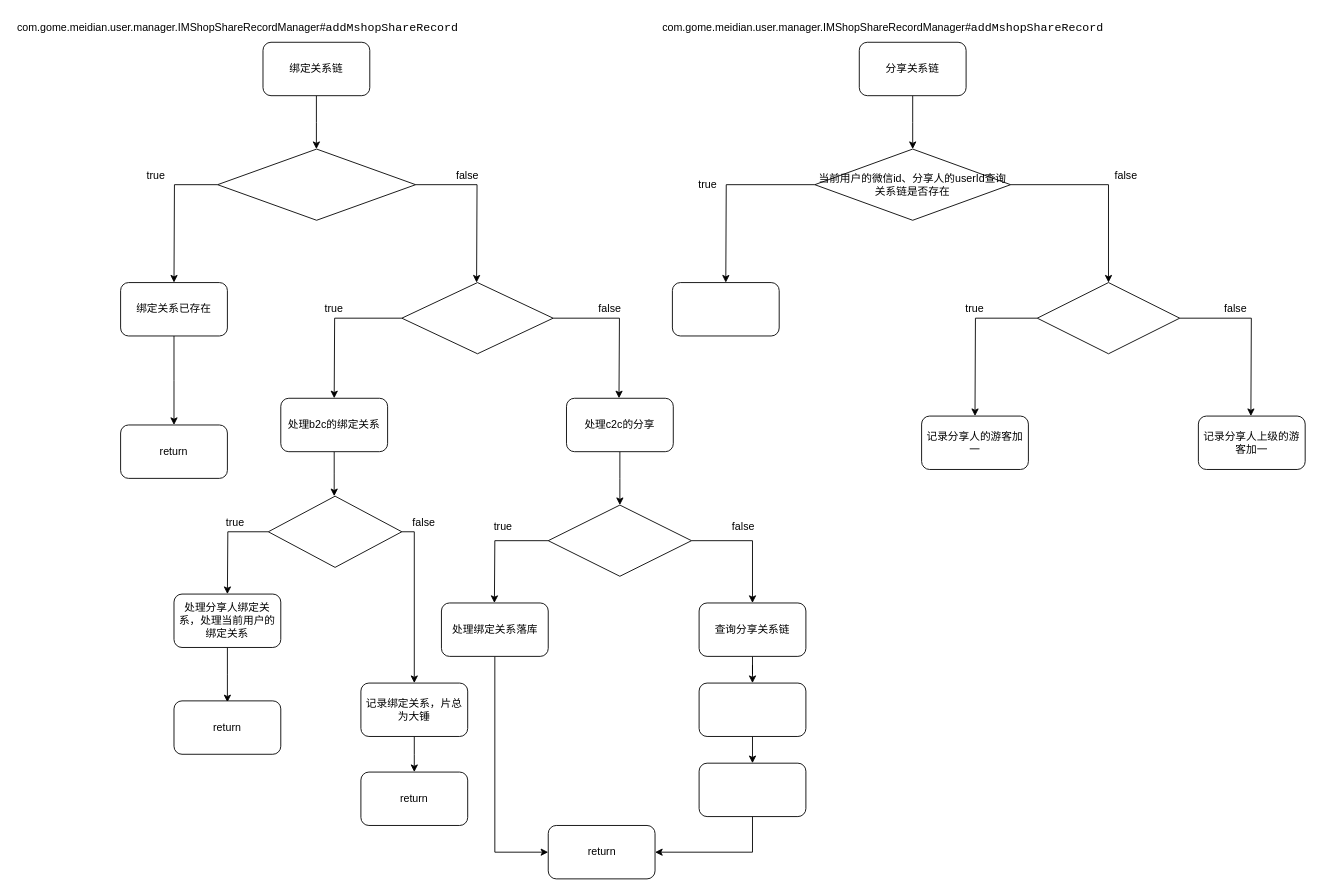
Some shapes in this 1321 by 894 pixel diagram are drawn without their labels. The centre of each missing label's shape, as x and y in pixels:
"判断分享人是否为美店主" goes at (1108,318).
"处理绑定关系链条" goes at (752,789).
"当前用户、分享人的userId查询是否已经存在绑定关系" goes at (316,184).
"更新为会员游客" goes at (725,309).
"查出分享逻辑上级" goes at (752,709).
"查询分享人是否存在绑定关系" goes at (334,531).
"校验分享人的身份是否是美店主" goes at (477,318).
"根据分享人查询是否存在绑定关系" goes at (619,540).
